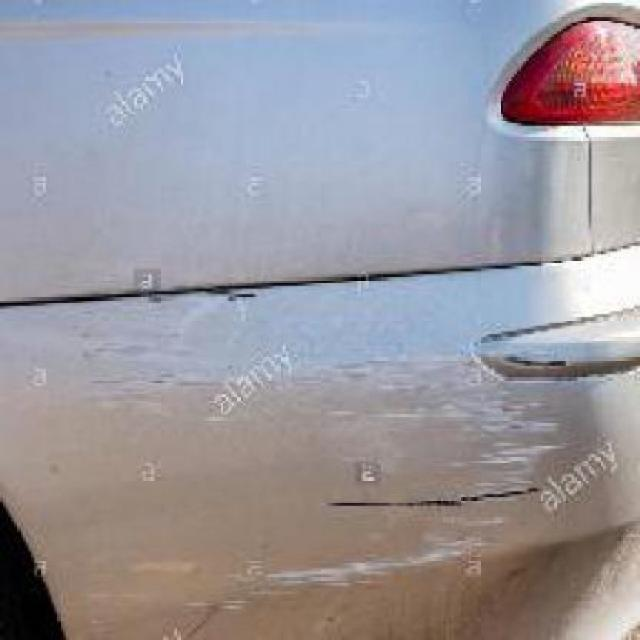dent-or-scratch: (82, 320, 524, 576)
